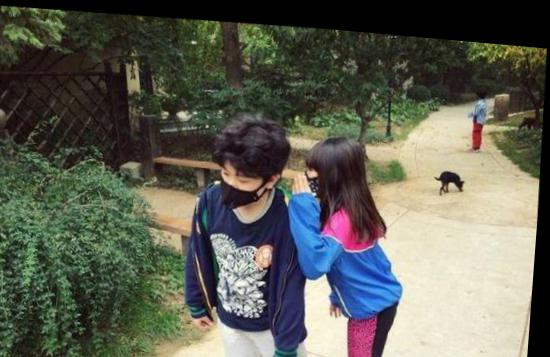WRONG: (220, 155, 275, 206)
